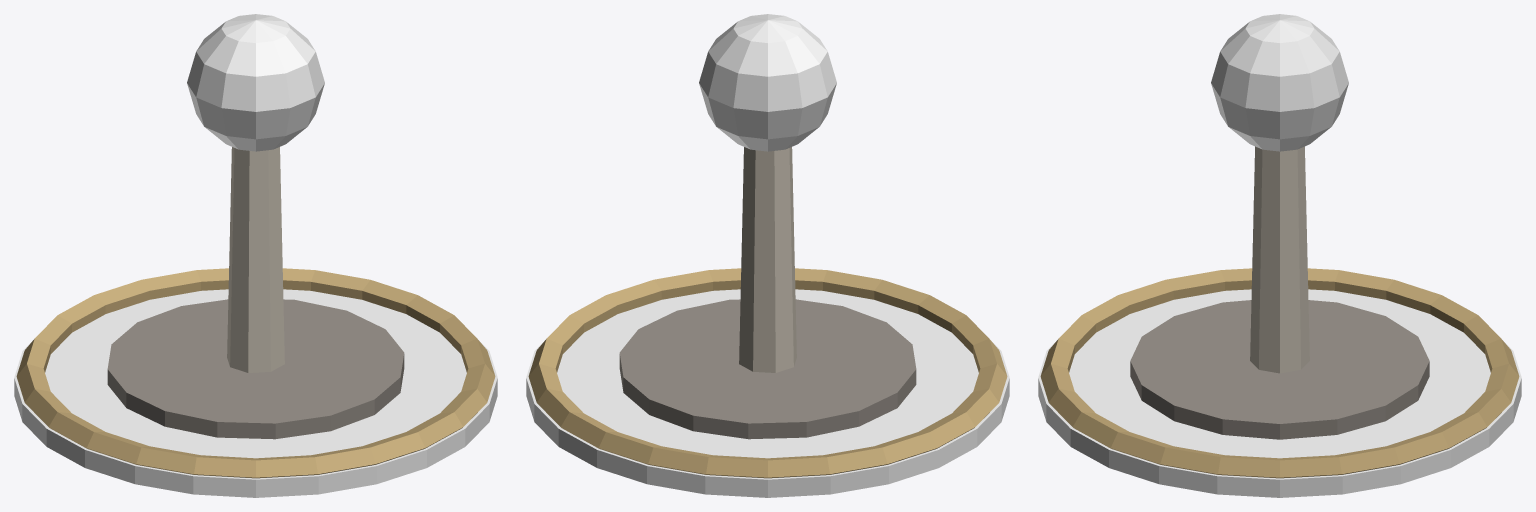
File: checkpoint.glb
3 renders of one model, left to right at view 1: azimuth 30°, elevation 25°; view 2: azimuth 150°, elevation 25°; view 3: azimuth 270°, elevation 25°, orthographic.
Parts seen in each view (by area): view 1: checkpoint; view 2: checkpoint; view 3: checkpoint.
Boxes of the visible parts, <box> form: checkpoint: <box>14,14,497,497</box>; checkpoint: <box>526,14,1009,497</box>; checkpoint: <box>1038,14,1521,497</box>.
Bounding box in the file's own units: 0.84 × 0.72 × 0.84.
